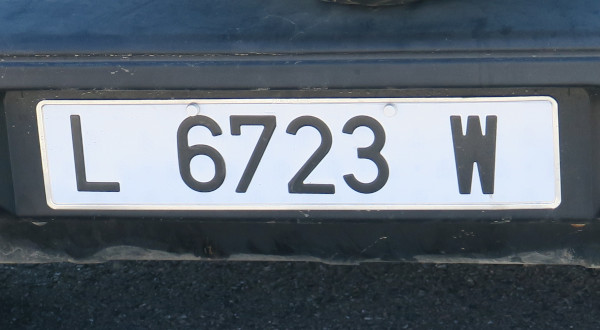license_plate: (37, 100, 561, 210)
